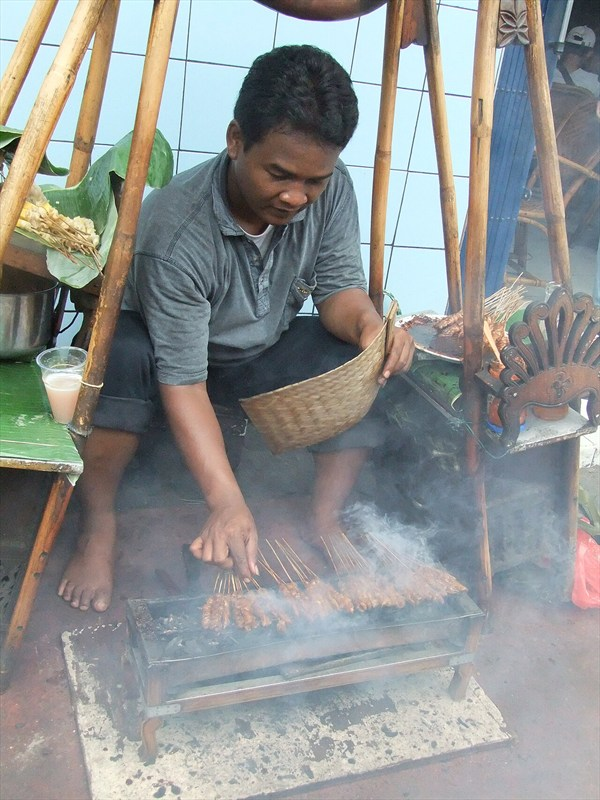Sate Ayam: (12, 16, 497, 501)
